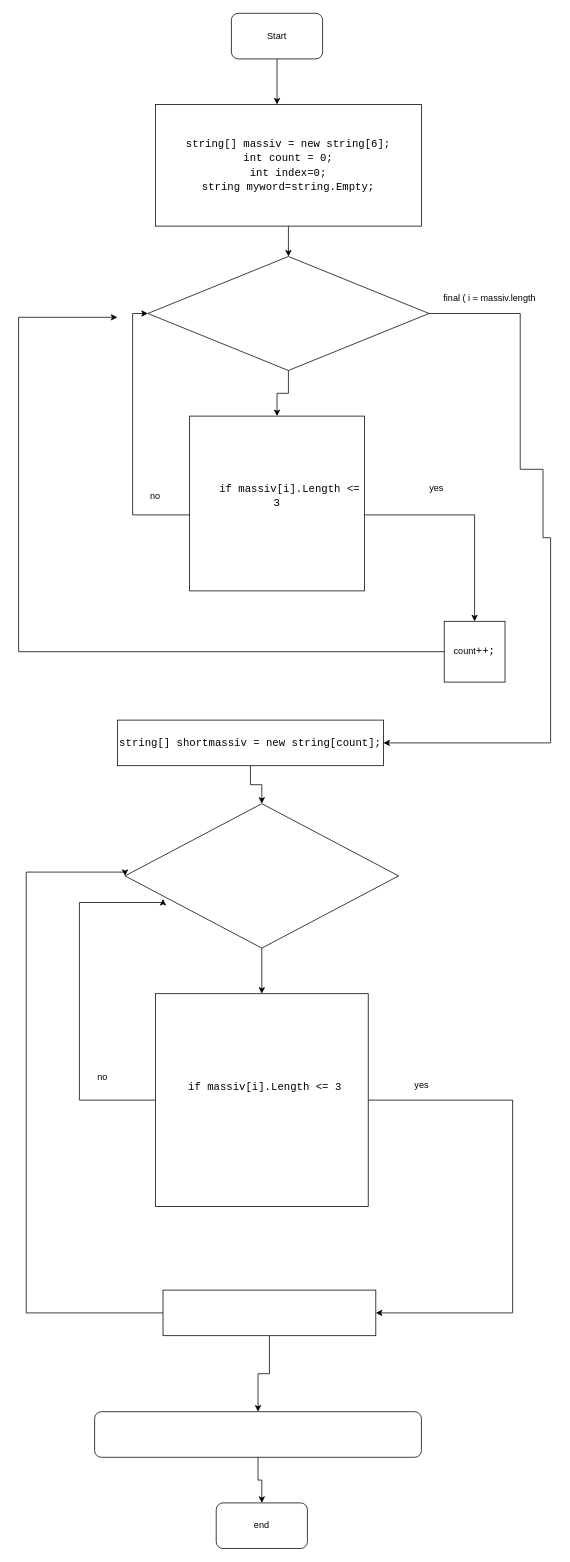
This 570x1562 diagram has some shape labels left out. The centre of each missing label's shape, as x and y in pixels:
for ( int i = 0 ; i < massiv . Length; i ++: point (288, 313)
for int i = 0 ; i < massiv . Length; i ++: point (261, 875)
print ( shortmassiv): point (257, 1434)
shortmassiv[index] = massiv[i]; index ++ ;: point (269, 1312)
